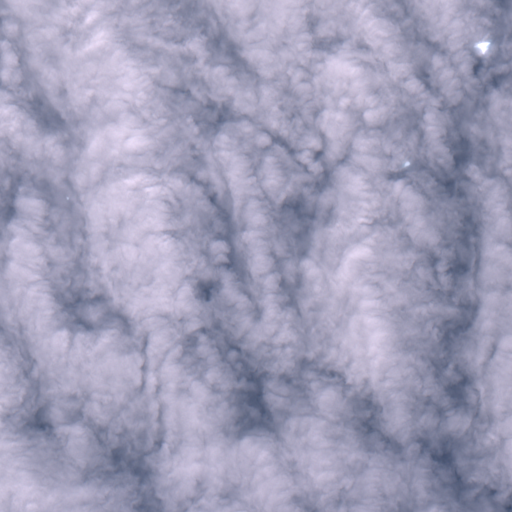Iceberg: (474, 42, 490, 53), (403, 161, 409, 166), (67, 197, 68, 199)
